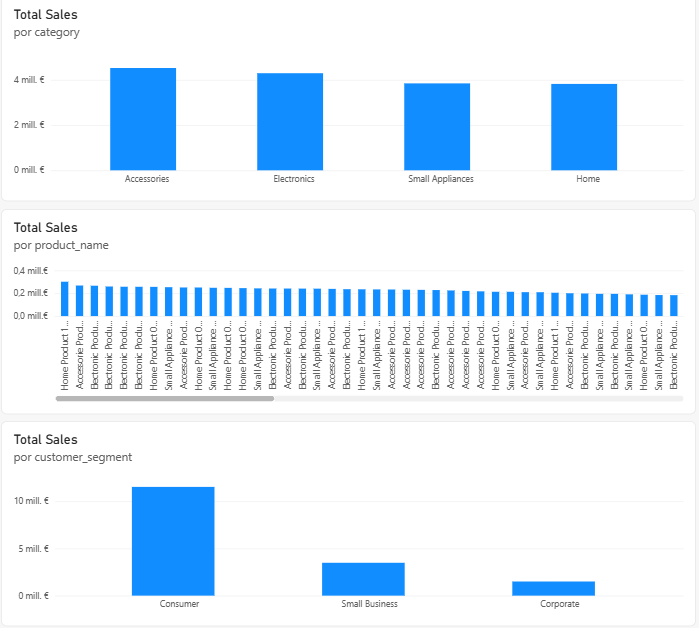

The page's visual inventory and layout, read from the dashboard file:
{"tool":"powerbi","page":{"name":"Product & Customer Analytics","canvas":[1920,1080],"ordinal":1},"visuals":[{"type":"clusteredColumnChart","fields":{"Category":["retail dim_product.category"],"Y":["retail fact_sales.Total Sales"]},"box":[9.6,0,951.1,280.5],"z":0},{"type":"columnChart","fields":{"Category":["retail dim_product.product_name"],"Y":["retail fact_sales.Total Sales"]},"box":[9.6,291.5,951.1,280.5],"z":1},{"type":"clusteredColumnChart","fields":{"Category":["retail dim_customer.customer_segment"],"Y":["retail fact_sales.Total Sales"]},"box":[10,582,951,281],"z":2}]}

Visuals, with their boxes on the page's 1920x1080 design canvas (x1, y1, x2, y2). These are canvas units, not pixel positions in the 699x628 screenshot, which may show the page scaled, cropped or inside an application window:
clusteredColumnChart - retail dim_product.category x retail fact_sales.Total Sales: select_region(10, 0, 961, 280)
columnChart - retail dim_product.product_name x retail fact_sales.Total Sales: select_region(10, 292, 961, 572)
clusteredColumnChart - retail dim_customer.customer_segment x retail fact_sales.Total Sales: select_region(10, 582, 961, 863)
